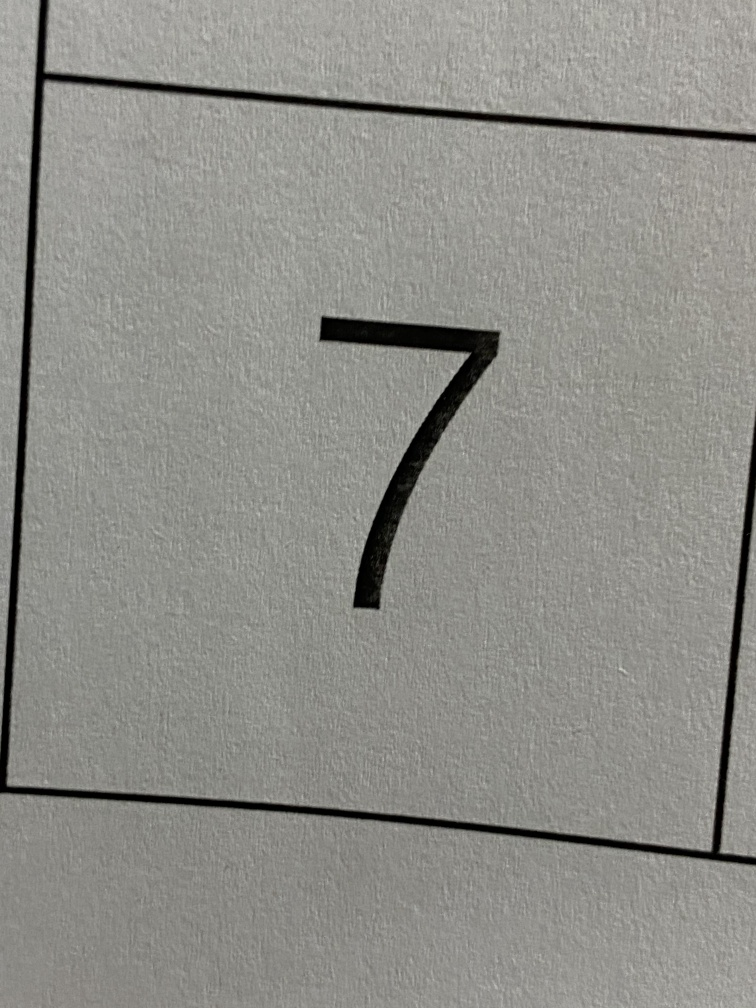seven: (263, 247, 546, 662)
